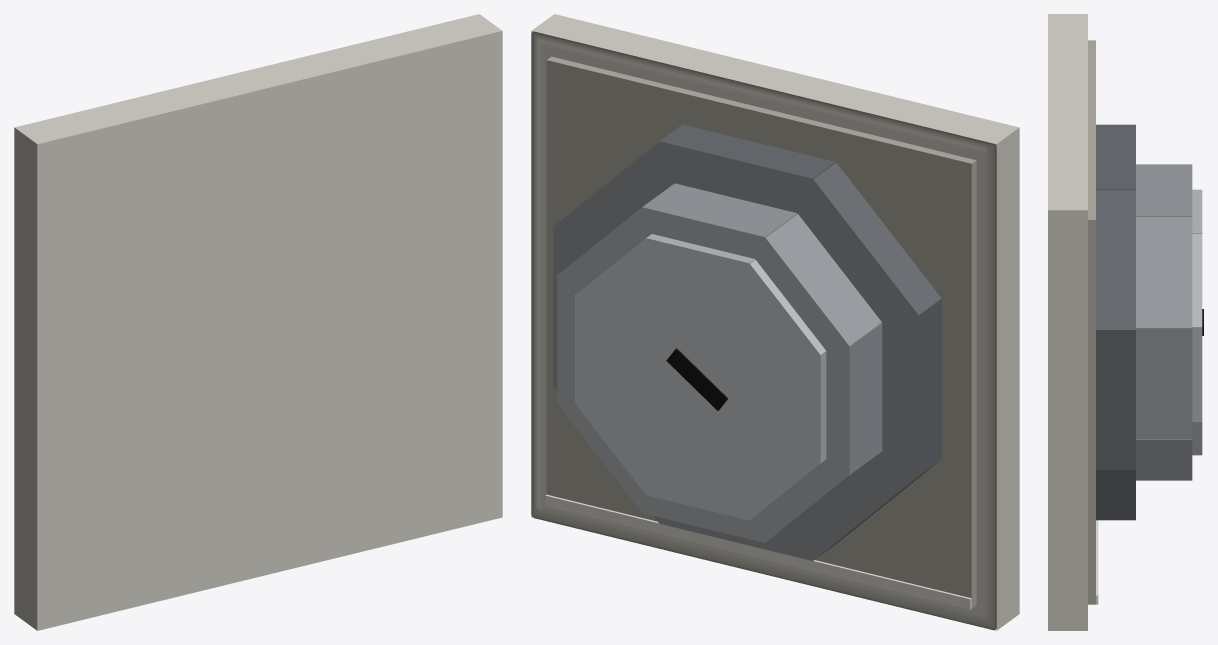
File: key_switch_close_nokey.obj
3 renders of one model, left to right at view 1: azimuth 30°, elevation 25°; view 2: azimuth 150°, elevation 25°; view 3: azimuth 270°, elevation 25°, orthographic. The views are drawn at different scales.
Visible parts, largest first — view 1: Panel; view 2: Knob, Panel; view 3: Knob, Panel.
Boxes of the visible parts, x1,y1,x2,y2 form: Panel: (14,14,502,630); Knob: (553,124,941,560); Panel: (531,14,1019,630); Knob: (1096,124,1203,520); Panel: (1048,14,1098,630).
Bounding box in the file's own units: 0.875 × 0.875 × 0.2937.
1 material, 1 textured.
